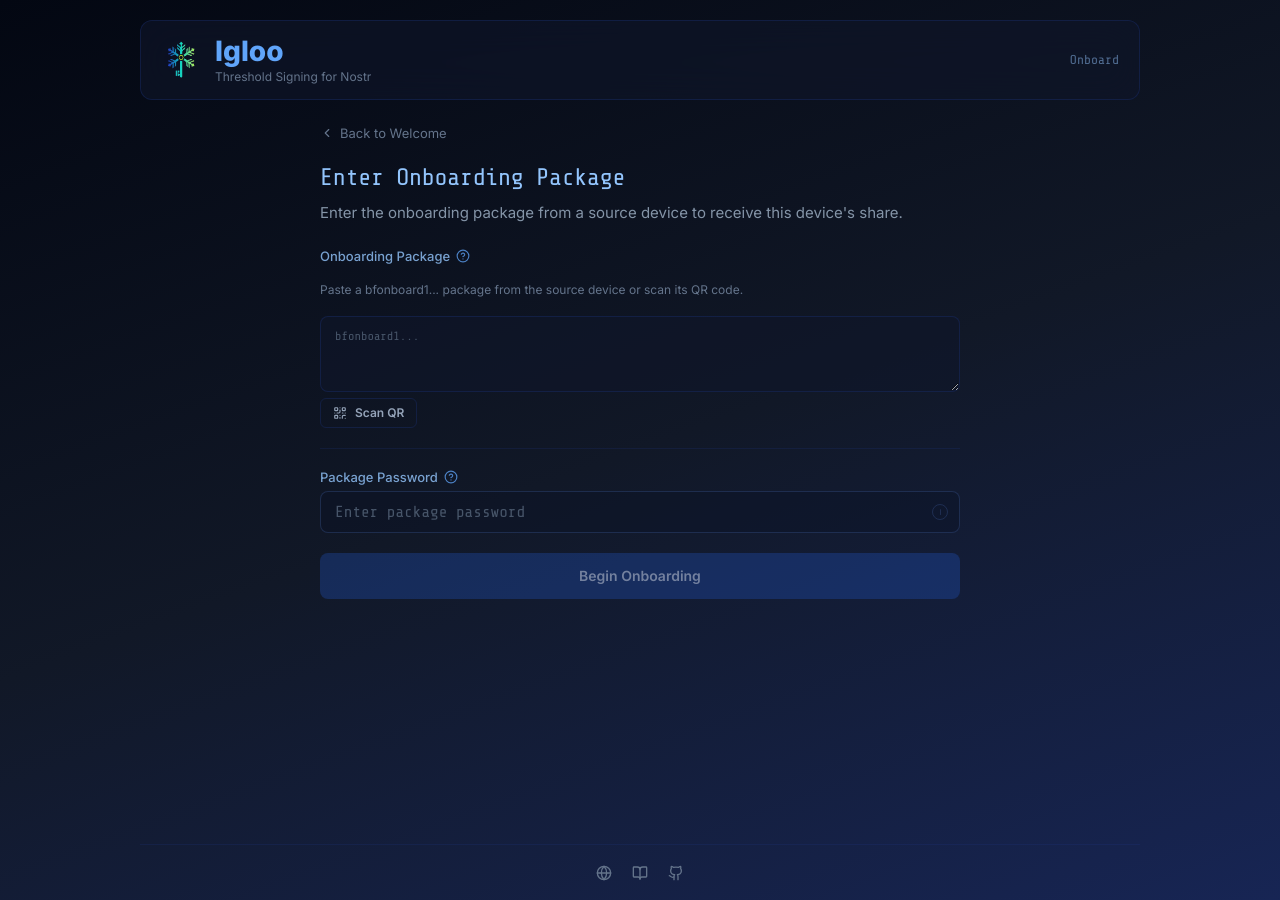
Test: EnterPackageScreen › Begin Onboarding button is disabled until valid package AND non-empty password are provided
Expected: the button "Begin Onboarding" is disabled, [320,553,960,599]
In the text box with placeholder "bfonboard1...": [640, 354] box [320,316,960,392], type "bfonboard1abc123"
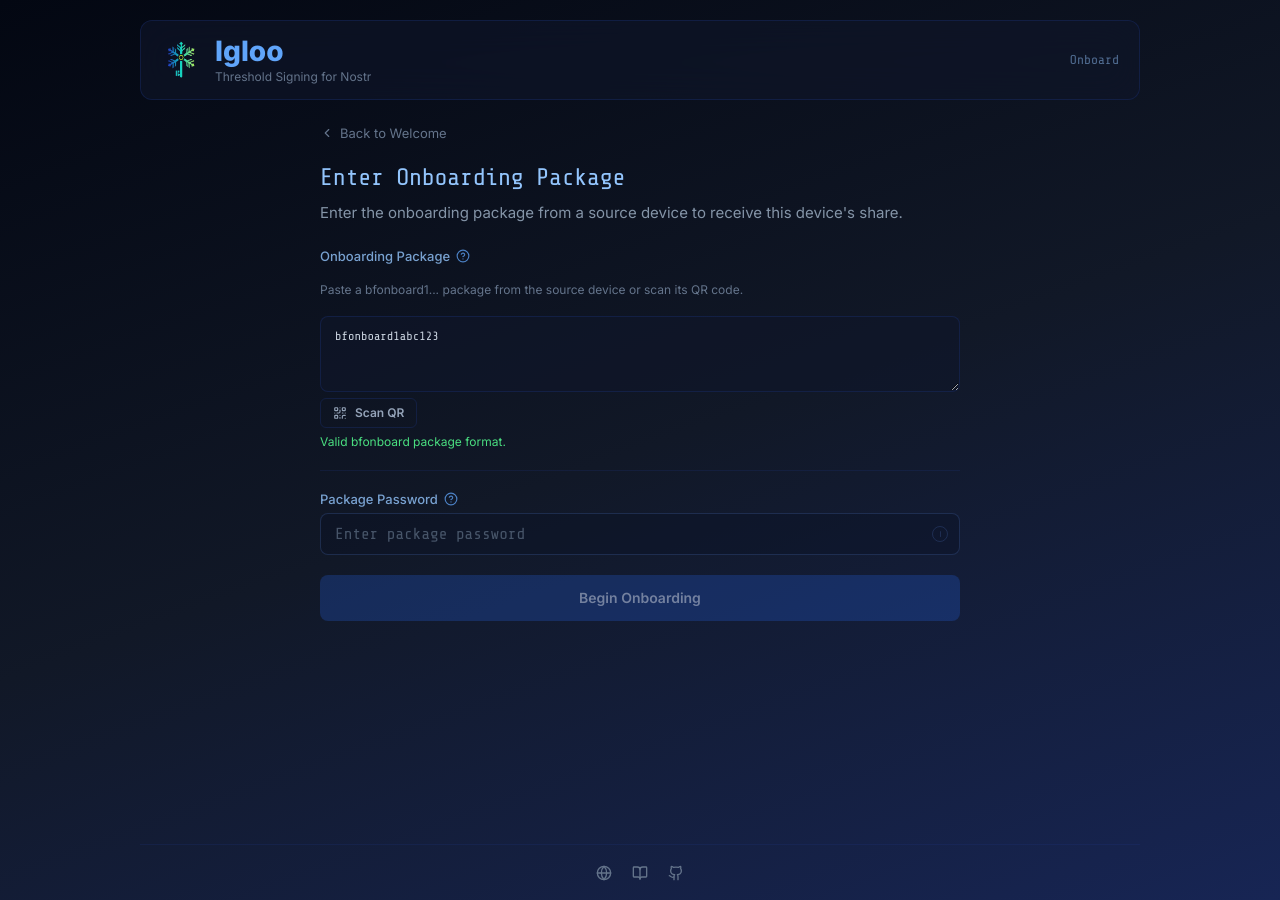
Expected: the button "Begin Onboarding" is disabled, [320,575,960,621]
In the password field labelled "Package Password": [640, 534] box [320,513,960,555], type "pkg-pass"
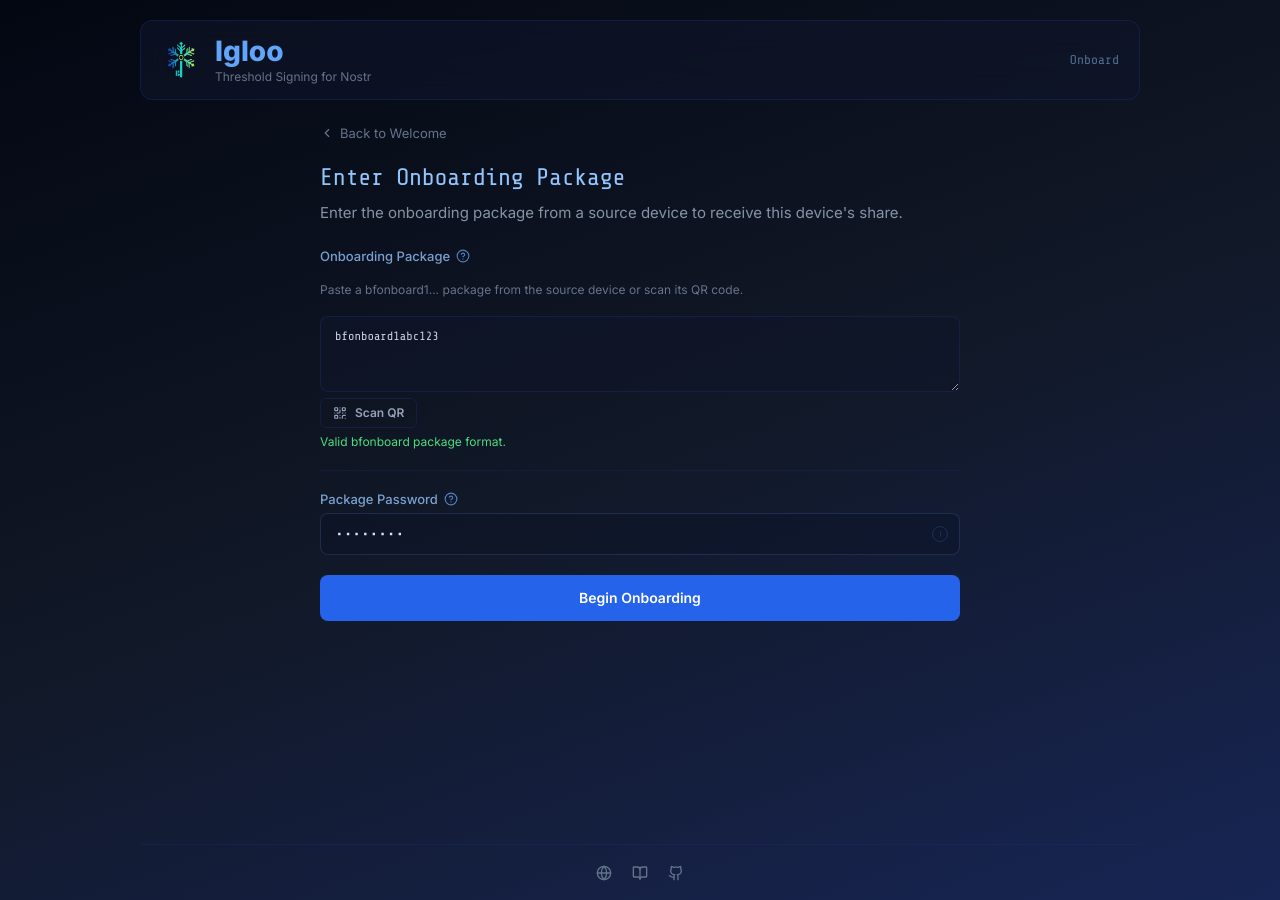
Expected: the button "Begin Onboarding" is enabled, [320,575,960,621]
